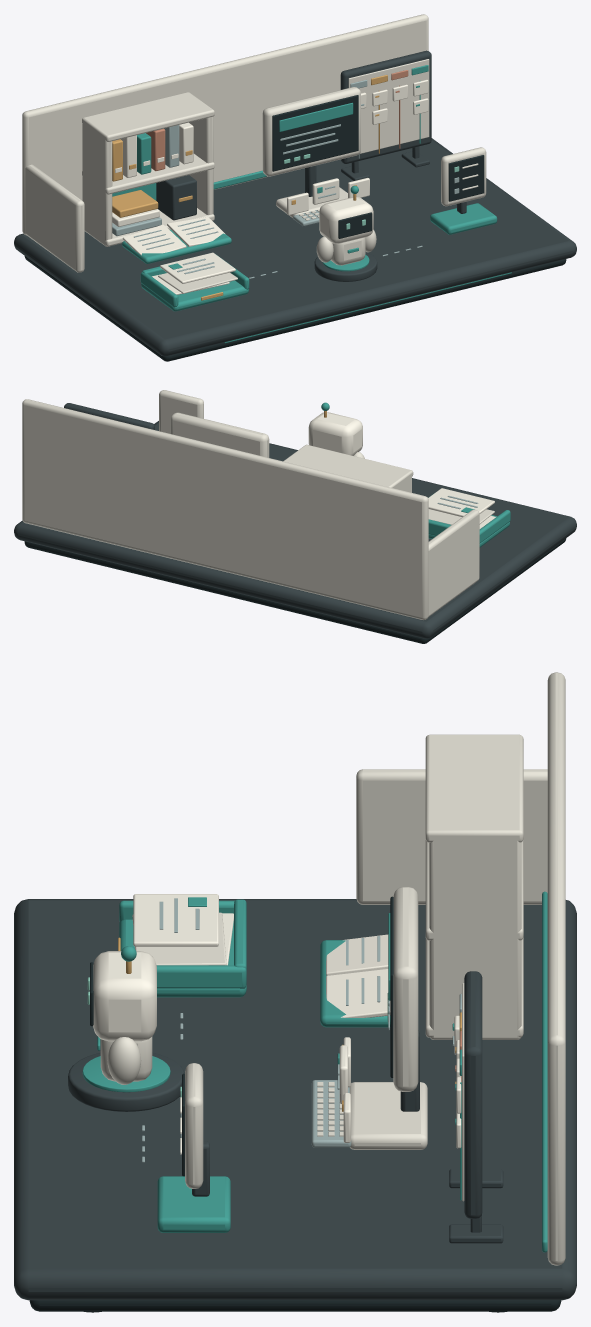
Rendered from workbench.glb.
3 renders of one model, top to bottom at view 1: azimuth 30°, elevation 25°; view 2: azimuth 150°, elevation 25°; view 3: azimuth 270°, elevation 25°, orthographic. The views are drawn at different scales.
Parts seen in each view (by area): view 1: MG_Desk_Graphite, MG_Desk_Porcelain, MG_Library_Porcelain, MG_Board_Porcelain, MG_Library_Paper, MG_Query_Ink, MG_Query_Porcelain, MG_Desk_Ink, MG_Board_Graphite, MG_Inbox_Teal, MG_Library_Teal, MG_Assistant_Paper (+19 smaller); view 2: MG_Desk_Porcelain, MG_Desk_Graphite, MG_Desk_Ink, MG_Library_Porcelain, MG_Query_Porcelain, MG_Assistant_Paper, MG_Updates_Porcelain, MG_CaptureCard_Paper, MG_Inbox_Teal, MG_Board_Graphite, MG_Inbox_Porcelain; view 3: MG_Desk_Graphite, MG_Library_Porcelain, MG_Desk_Porcelain, MG_Query_Porcelain, MG_Board_Graphite, MG_Desk_Ink, MG_Assistant_Paper, MG_Inbox_Teal, MG_Library_Paper, MG_CaptureCard_Paper, MG_Updates_Teal, MG_Assistant_Graphite (+7 smaller).
Boxes of the visible parts, left/top/right/bottom form: MG_Desk_Graphite: left=14, top=138, right=576, bottom=356; MG_Desk_Porcelain: left=22, top=14, right=428, bottom=272; MG_Library_Porcelain: left=82, top=92, right=214, bottom=246; MG_Board_Porcelain: left=348, top=59, right=429, bottom=153; MG_Library_Paper: left=112, top=122, right=224, bottom=255; MG_Query_Ink: left=272, top=95, right=358, bottom=171; MG_Query_Porcelain: left=262, top=87, right=360, bottom=220; MG_Desk_Ink: left=24, top=256, right=566, bottom=361; MG_Board_Graphite: left=340, top=50, right=431, bottom=180; MG_Inbox_Teal: left=140, top=255, right=249, bottom=311; MG_Library_Teal: left=112, top=133, right=231, bottom=263; MG_Assistant_Paper: left=319, top=196, right=373, bottom=243; MG_Desk_Porcelain: left=22, top=399, right=479, bottom=619; MG_Desk_Graphite: left=14, top=421, right=576, bottom=638; MG_Desk_Ink: left=24, top=538, right=566, bottom=643; MG_Library_Porcelain: left=283, top=444, right=413, bottom=492; MG_Query_Porcelain: left=170, top=412, right=269, bottom=457; MG_Assistant_Paper: left=308, top=412, right=362, bottom=455; MG_Updates_Porcelain: left=159, top=390, right=203, bottom=433; MG_CaptureCard_Paper: left=428, top=488, right=494, bottom=516; MG_Inbox_Teal: left=428, top=493, right=510, bottom=547; MG_Board_Graphite: left=64, top=403, right=154, bottom=429; MG_Inbox_Porcelain: left=428, top=509, right=494, bottom=524; MG_Desk_Graphite: left=14, top=899, right=576, bottom=1300; MG_Library_Porcelain: left=425, top=734, right=523, bottom=1039; MG_Desk_Porcelain: left=356, top=672, right=565, bottom=1265; MG_Query_Porcelain: left=317, top=887, right=427, bottom=1149; MG_Board_Graphite: left=449, top=971, right=503, bottom=1243; MG_Desk_Ink: left=29, top=1300, right=561, bottom=1312; MG_Assistant_Paper: left=93, top=951, right=156, bottom=1041; MG_Inbox_Teal: left=119, top=899, right=246, bottom=997; MG_Library_Paper: left=326, top=934, right=390, bottom=1017; MG_CaptureCard_Paper: left=133, top=894, right=218, bottom=946; MG_Updates_Teal: left=157, top=1176, right=230, bottom=1232; MG_Assistant_Graphite: left=68, top=1052, right=184, bottom=1111.
Size of the model in its own units: 8 by 2.85 by 5.
